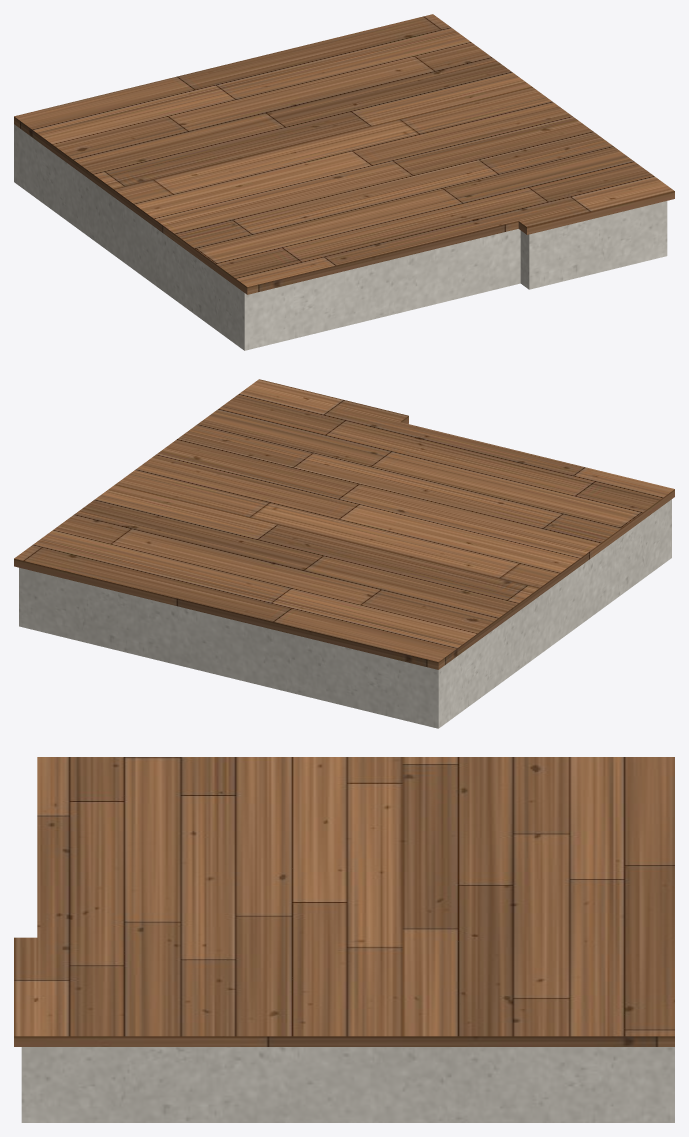
File: floor_floor_u_e1010.glb
3 views of the same model, one above another, from view 1: azimuth 30°, elevation 25°; view 2: azimuth 150°, elevation 25°; view 3: azimuth 270°, elevation 25° (orthographic). The views are drawn at different scales.
Visible parts, largest first — view 1: floor_floor_u_e1010_floor, floor_floor_u_e1010_plaster; view 2: floor_floor_u_e1010_floor, floor_floor_u_e1010_plaster; view 3: floor_floor_u_e1010_floor, floor_floor_u_e1010_plaster.
Boxes of the visible parts, x1,y1,x2,y2 form: floor_floor_u_e1010_floor: (14,14,674,294); floor_floor_u_e1010_plaster: (14,124,667,350); floor_floor_u_e1010_floor: (14,379,674,669); floor_floor_u_e1010_plaster: (19,499,671,728); floor_floor_u_e1010_floor: (14,757,674,1046); floor_floor_u_e1010_plaster: (21,1047,674,1122).
Size of the model in its own units: 1.7 by 0.255 by 1.7.
2 materials, 2 textured.
